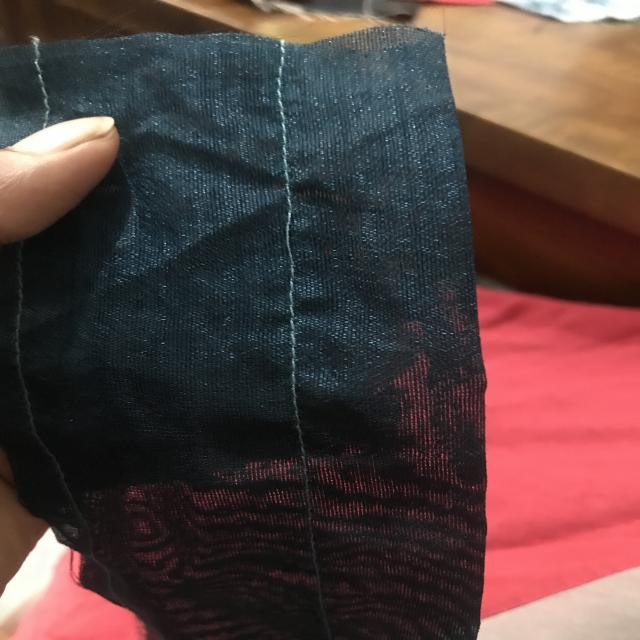good: (287, 312, 317, 439), (266, 85, 298, 171)
skip: (259, 202, 317, 283)
